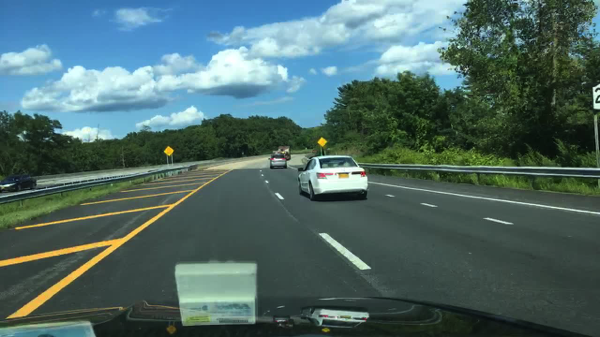car: (297, 155, 368, 201), (0, 174, 37, 193), (268, 154, 287, 169), (272, 150, 288, 161)
traffic sign: (591, 87, 599, 109), (163, 146, 175, 156), (316, 137, 328, 147)
truck: (278, 146, 291, 160)
